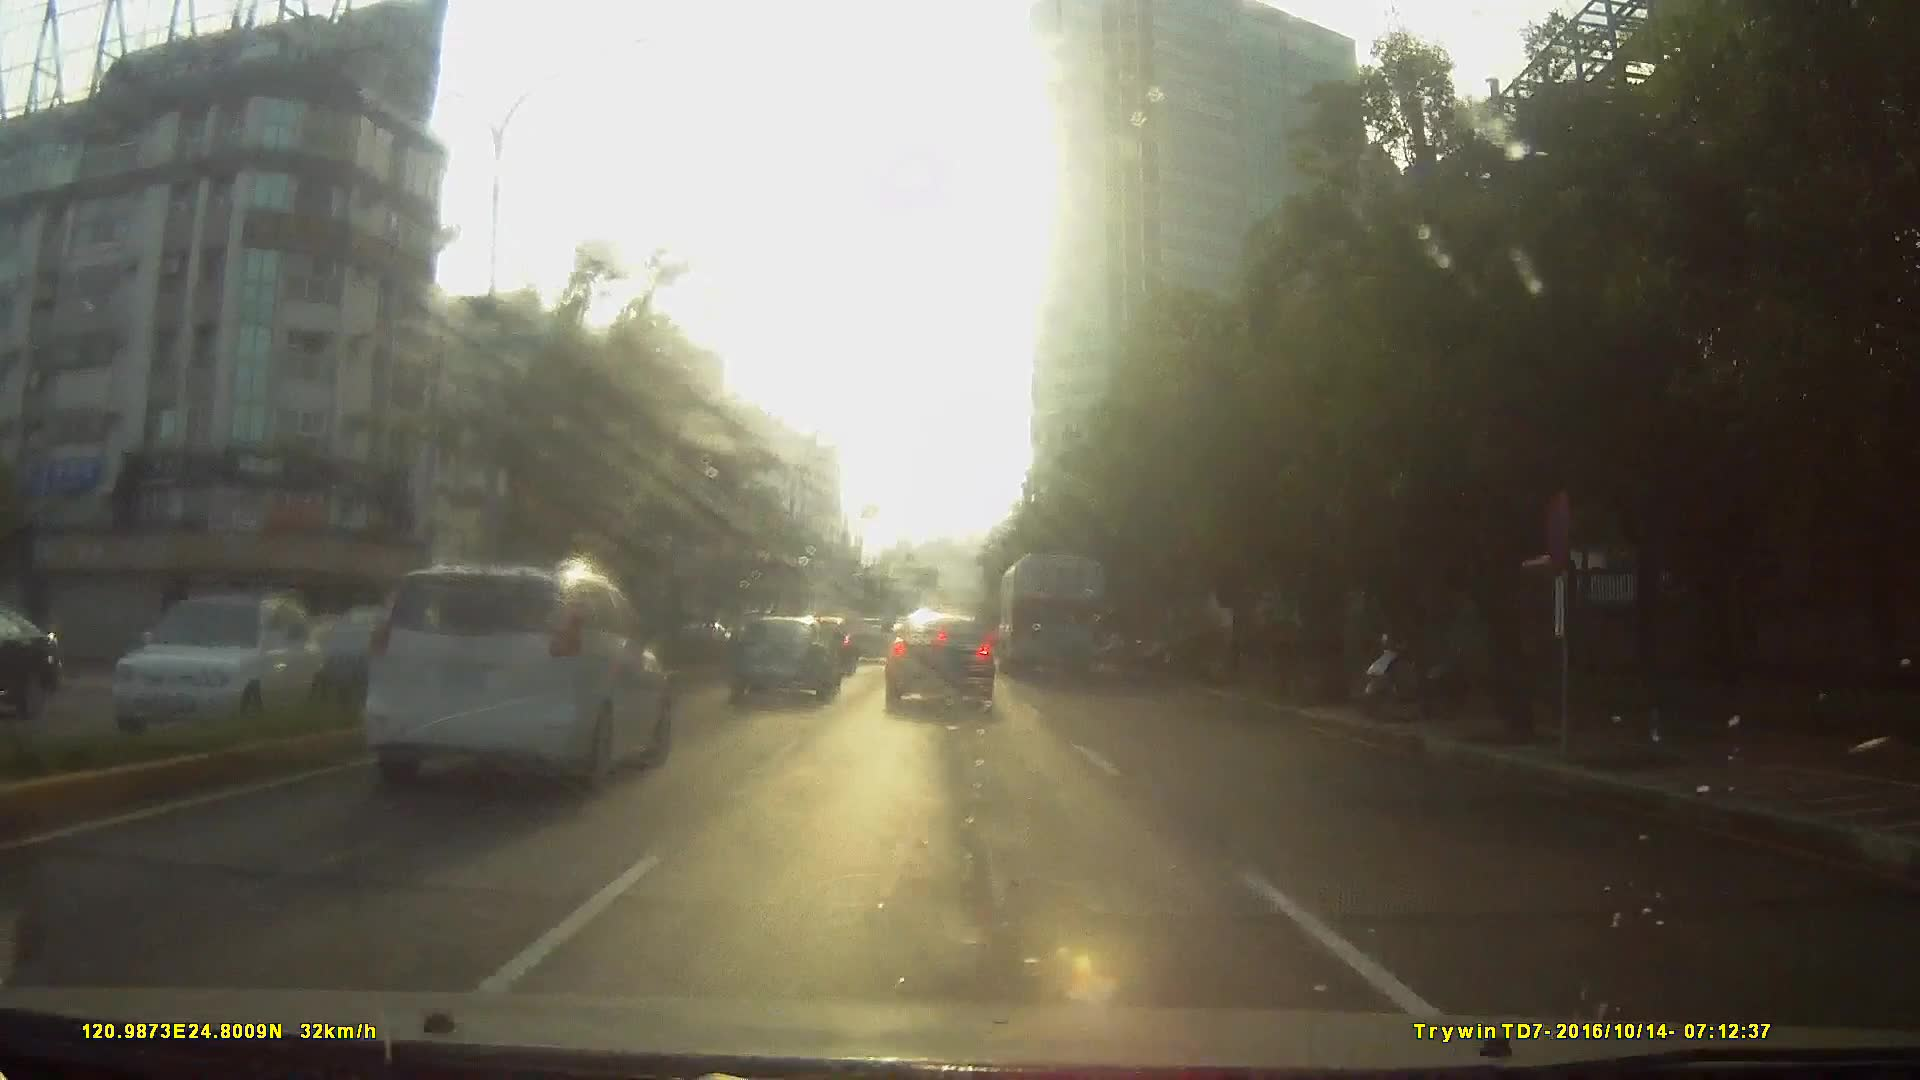vehicle: (251, 556, 684, 868), (353, 554, 669, 789), (90, 585, 330, 758), (284, 603, 442, 705), (997, 549, 1106, 680), (881, 607, 996, 711), (723, 611, 837, 700), (1, 607, 74, 723), (848, 613, 893, 662)
